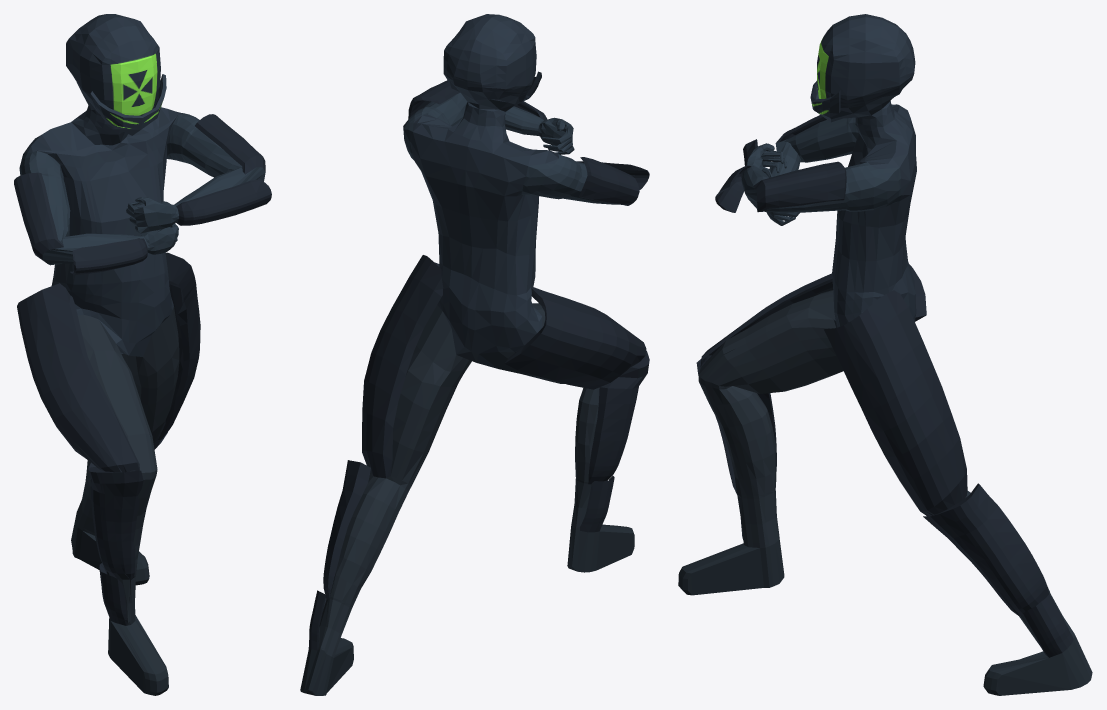
Rendered from Bastion_WR_000019.obj.
3 views of the same model, side by side, from view 1: azimuth 30°, elevation 25°; view 2: azimuth 150°, elevation 25°; view 3: azimuth 270°, elevation 25° (orthographic). The views are drawn at different scales.
Parts seen in each view (by area): view 1: Cube.002; view 2: Cube.002; view 3: Cube.002.
Boxes of the visible parts, x1=… form: Cube.002: x1=14, y1=14, x2=271, y2=695; Cube.002: x1=300, y1=14, x2=649, y2=695; Cube.002: x1=678, y1=14, x2=1092, y2=695.
Size of the model in its own units: 1.31 by 3.59 by 2.14.
